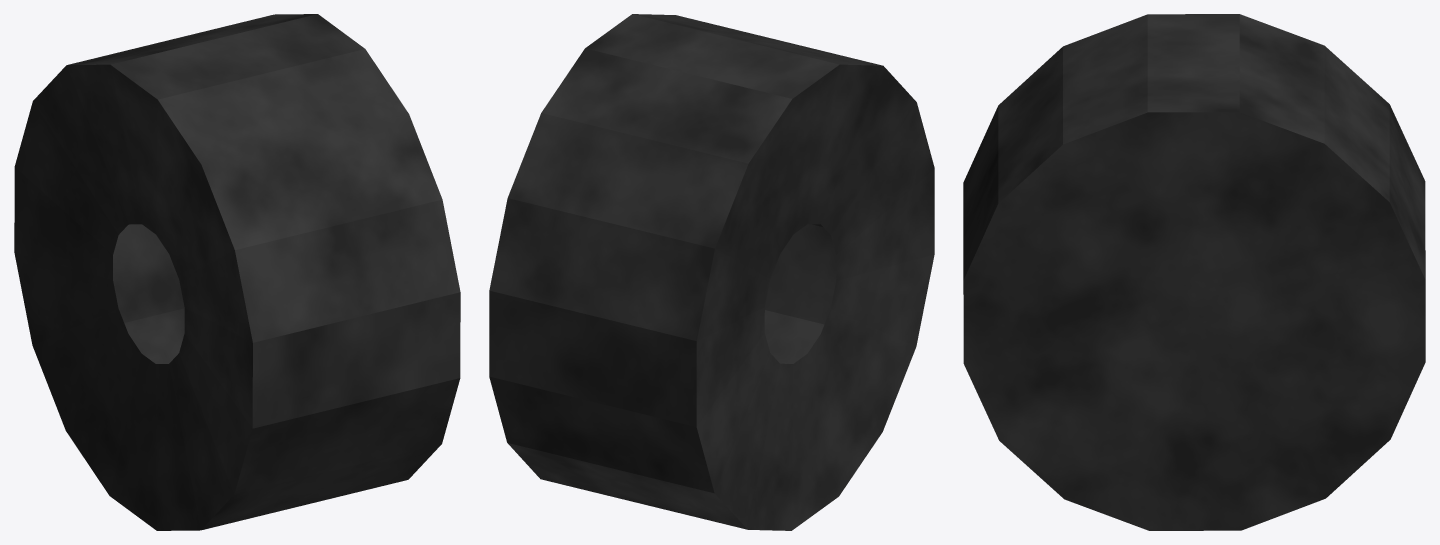
Rendered from llanta_TI.obj.
3 views of the same model, side by side, from view 1: azimuth 30°, elevation 25°; view 2: azimuth 150°, elevation 25°; view 3: azimuth 270°, elevation 25° (orthographic). The views are drawn at different scales.
Parts seen in each view (by area): view 1: rueda_TI; view 2: rueda_TI; view 3: rueda_TI.
Boxes of the visible parts, x1=… form: rueda_TI: x1=14, y1=14, x2=460, y2=530; rueda_TI: x1=489, y1=14, x2=934, y2=530; rueda_TI: x1=963, y1=14, x2=1425, y2=530.
Size of the model in its own units: 0.3463 by 0.6887 by 0.6887.
1 material, 1 textured.
